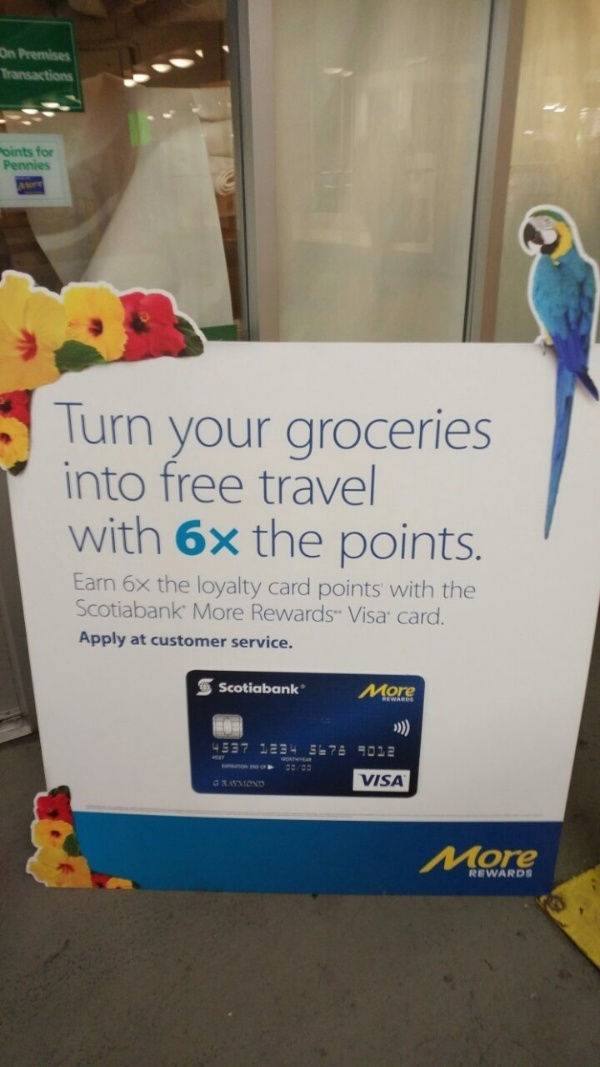text: (289, 407, 304, 462), (305, 407, 320, 462), (321, 407, 336, 462), (337, 407, 352, 462), (353, 407, 368, 462), (369, 407, 384, 462), (385, 407, 400, 462), (401, 407, 416, 462), (417, 407, 432, 462), (433, 407, 448, 462), (449, 407, 464, 462), (465, 407, 480, 462), (481, 407, 494, 462), (353, 522, 368, 569), (369, 522, 384, 569), (385, 522, 400, 569), (401, 522, 416, 569), (417, 522, 432, 569), (433, 522, 448, 569), (449, 522, 464, 569), (465, 522, 480, 569), (65, 401, 80, 447), (81, 401, 96, 447), (97, 401, 112, 447), (113, 401, 128, 447), (129, 401, 144, 447), (177, 415, 192, 460), (193, 415, 208, 460), (209, 415, 224, 460), (225, 415, 240, 460), (241, 415, 256, 460), (257, 415, 272, 460), (161, 460, 176, 505), (177, 460, 192, 505), (193, 460, 208, 505), (209, 460, 224, 505), (225, 460, 240, 505), (273, 462, 288, 507), (289, 462, 304, 507), (305, 462, 320, 507), (321, 462, 336, 507), (337, 462, 352, 507), (353, 462, 368, 507), (257, 517, 272, 560), (273, 517, 288, 560), (289, 517, 304, 560), (305, 517, 320, 560), (81, 515, 96, 557), (97, 515, 112, 557), (113, 515, 128, 557), (129, 515, 144, 557), (145, 515, 160, 557), (258, 462, 272, 507), (225, 518, 241, 557), (65, 461, 80, 502), (81, 461, 96, 502), (97, 461, 112, 502), (113, 461, 128, 502), (129, 461, 144, 502), (66, 515, 80, 557), (177, 518, 192, 557), (193, 518, 208, 557), (209, 518, 224, 557), (340, 522, 352, 569), (52, 401, 64, 447), (449, 843, 464, 876), (465, 843, 480, 876), (481, 843, 496, 876), (497, 843, 512, 876), (513, 843, 528, 876), (145, 401, 155, 447), (209, 574, 224, 602), (225, 574, 240, 602), (241, 574, 256, 602), (168, 415, 176, 460), (81, 598, 96, 622), (97, 598, 112, 622), (113, 598, 128, 622), (129, 598, 144, 622), (145, 598, 160, 622), (161, 598, 176, 622), (196, 574, 208, 602), (257, 602, 272, 624), (273, 602, 288, 624), (289, 602, 304, 624), (305, 602, 320, 624), (321, 602, 336, 624), (321, 580, 336, 602), (337, 580, 352, 602), (353, 580, 368, 602), (161, 573, 176, 595), (529, 843, 539, 876), (369, 462, 376, 507), (449, 580, 464, 601), (81, 572, 96, 593), (97, 572, 112, 593), (177, 573, 191, 595), (193, 602, 208, 622), (209, 602, 224, 622), (225, 602, 240, 622), (401, 607, 416, 627), (417, 607, 432, 627), (401, 579, 416, 599), (417, 579, 432, 599), (273, 577, 288, 597), (289, 577, 304, 597), (129, 574, 144, 594), (353, 606, 368, 625), (369, 606, 384, 625), (433, 607, 447, 627), (369, 580, 381, 602), (81, 631, 96, 648), (97, 631, 112, 648), (113, 631, 128, 648), (369, 683, 384, 700), (385, 683, 400, 700), (401, 683, 416, 700), (17, 46, 32, 62), (33, 46, 48, 62), (49, 46, 64, 62), (1, 45, 16, 61), (465, 580, 476, 601), (389, 579, 400, 599), (251, 517, 256, 560), (1, 67, 16, 81), (17, 67, 32, 81), (33, 67, 48, 81), (49, 67, 64, 81), (17, 178, 32, 192), (241, 636, 256, 650), (257, 636, 272, 650), (273, 636, 288, 650), (225, 682, 240, 696), (241, 682, 256, 696), (257, 682, 272, 696), (273, 682, 288, 696), (34, 145, 48, 159), (17, 159, 32, 172), (33, 159, 48, 172), (1, 145, 16, 158), (17, 145, 32, 158), (161, 635, 176, 648), (177, 635, 192, 648), (193, 635, 208, 648), (209, 635, 224, 648), (369, 774, 384, 787), (385, 774, 400, 787), (225, 742, 240, 755), (273, 743, 288, 756), (321, 744, 336, 757), (369, 745, 384, 758), (177, 598, 185, 622), (33, 178, 46, 192), (241, 460, 245, 505), (3, 159, 16, 172), (131, 634, 144, 647), (211, 742, 224, 755), (73, 598, 80, 622), (257, 574, 263, 602), (481, 869, 496, 880), (497, 869, 512, 880), (513, 869, 528, 880), (145, 574, 153, 594), (260, 743, 272, 756), (289, 682, 300, 696), (225, 779, 240, 789), (241, 779, 256, 789), (357, 745, 368, 758), (385, 745, 396, 758), (121, 574, 128, 594), (225, 763, 240, 772), (241, 763, 256, 772), (468, 869, 480, 880), (444, 843, 448, 876), (150, 635, 160, 648), (337, 744, 347, 757), (211, 779, 224, 789), (321, 517, 324, 560), (65, 46, 73, 62), (65, 67, 74, 81), (231, 636, 240, 650), (442, 580, 448, 601), (74, 572, 80, 593), (305, 577, 311, 597), (289, 756, 304, 764), (241, 742, 250, 755), (289, 743, 298, 756), (311, 744, 320, 757), (385, 606, 391, 625), (286, 407, 288, 462), (251, 602, 256, 624), (337, 602, 342, 624), (289, 765, 304, 772), (257, 779, 267, 789), (257, 763, 268, 772), (481, 522, 483, 569), (361, 774, 368, 787), (211, 755, 224, 762), (385, 697, 400, 703), (401, 697, 416, 703), (156, 573, 160, 595), (49, 145, 55, 159), (113, 572, 117, 593), (62, 461, 64, 502), (241, 602, 245, 622), (348, 606, 352, 625), (305, 756, 314, 764), (219, 682, 224, 696), (529, 869, 535, 880), (401, 774, 406, 787), (397, 607, 400, 627), (269, 577, 272, 597), (289, 636, 293, 650), (281, 756, 288, 764), (33, 145, 37, 158), (365, 683, 368, 700), (305, 765, 312, 772), (159, 460, 160, 505), (318, 580, 320, 602), (161, 515, 162, 557), (145, 461, 146, 502), (433, 579, 435, 599), (49, 159, 52, 172), (175, 518, 176, 557), (225, 635, 228, 648), (220, 763, 224, 772), (145, 634, 147, 647), (381, 697, 384, 703), (79, 631, 80, 648), (286, 765, 288, 772), (225, 755, 226, 762)
